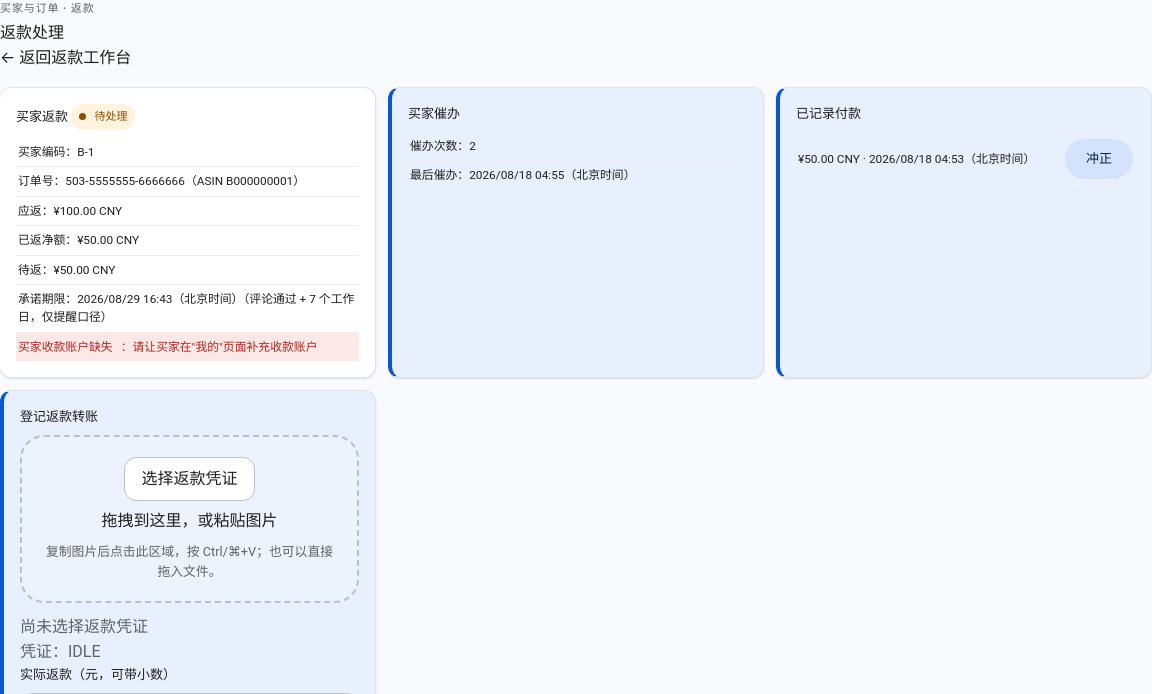
staff refund detail › keeps refund confirmation disabled while a financial request is pending
This screenshot has width=1152, height=694.
Click the button "冲正" at (1099, 159), box [1065,139,1133,179]
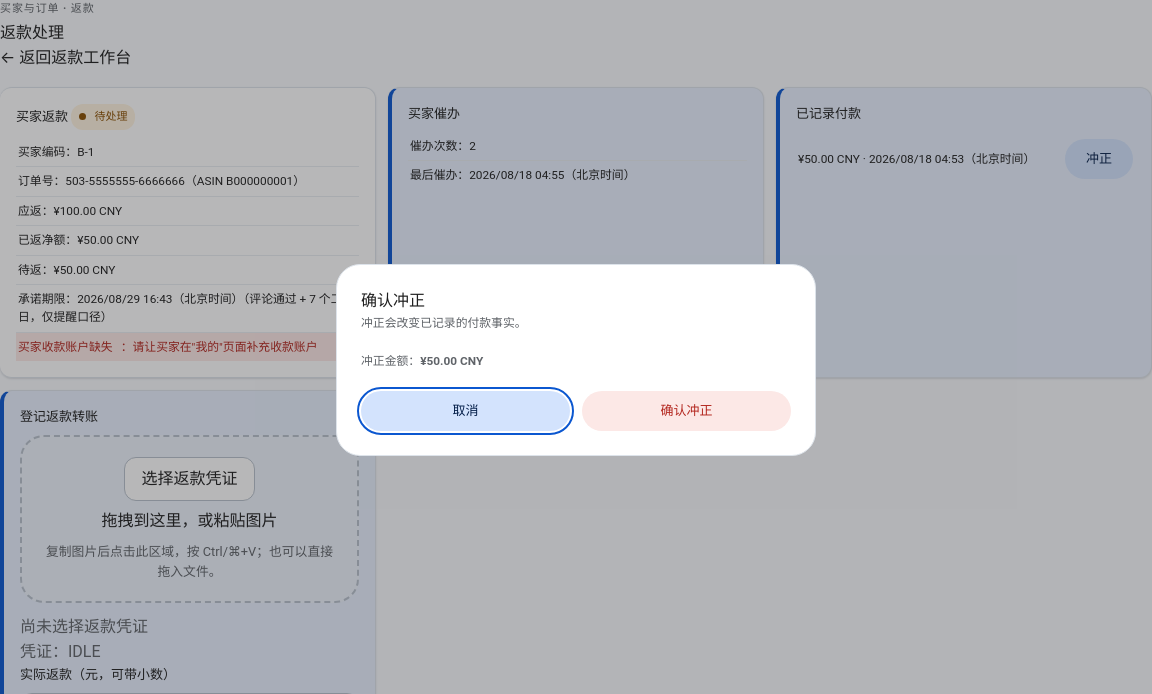
Click the button "确认冲正" at (686, 411), box [582,391,791,431]
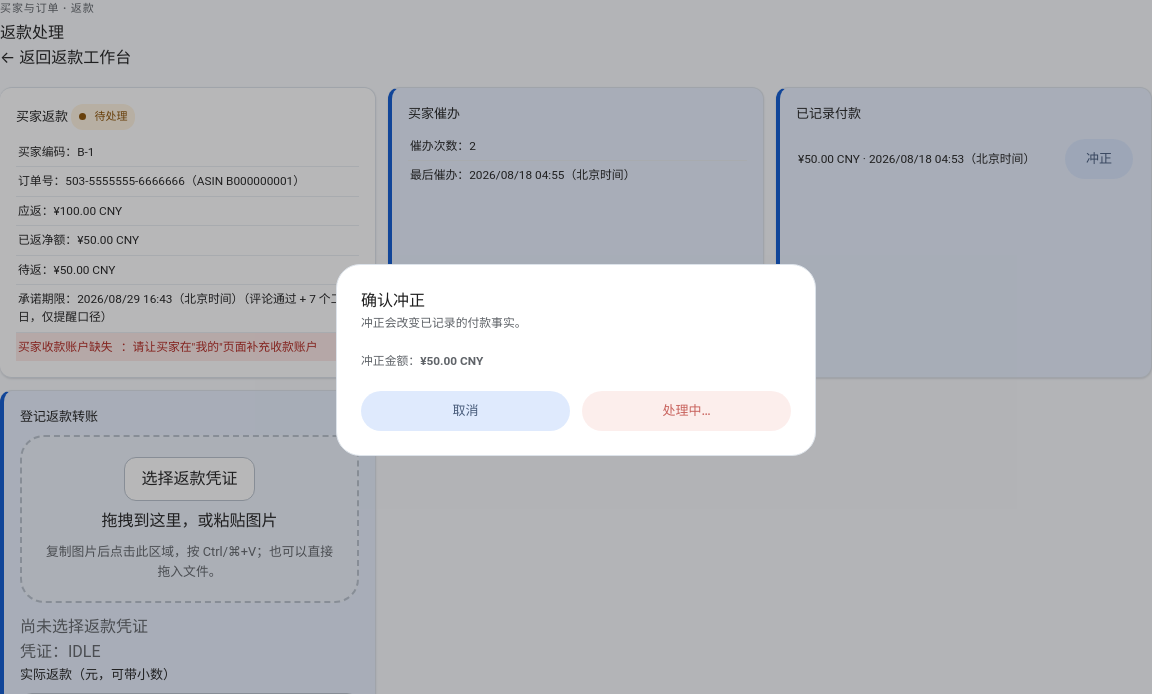
Now the button "处理中…" is disabled
Now the button "取消" is disabled, box [361,391,570,431]
Click the button "处理中…" at (686, 411), box [582,391,791,431]
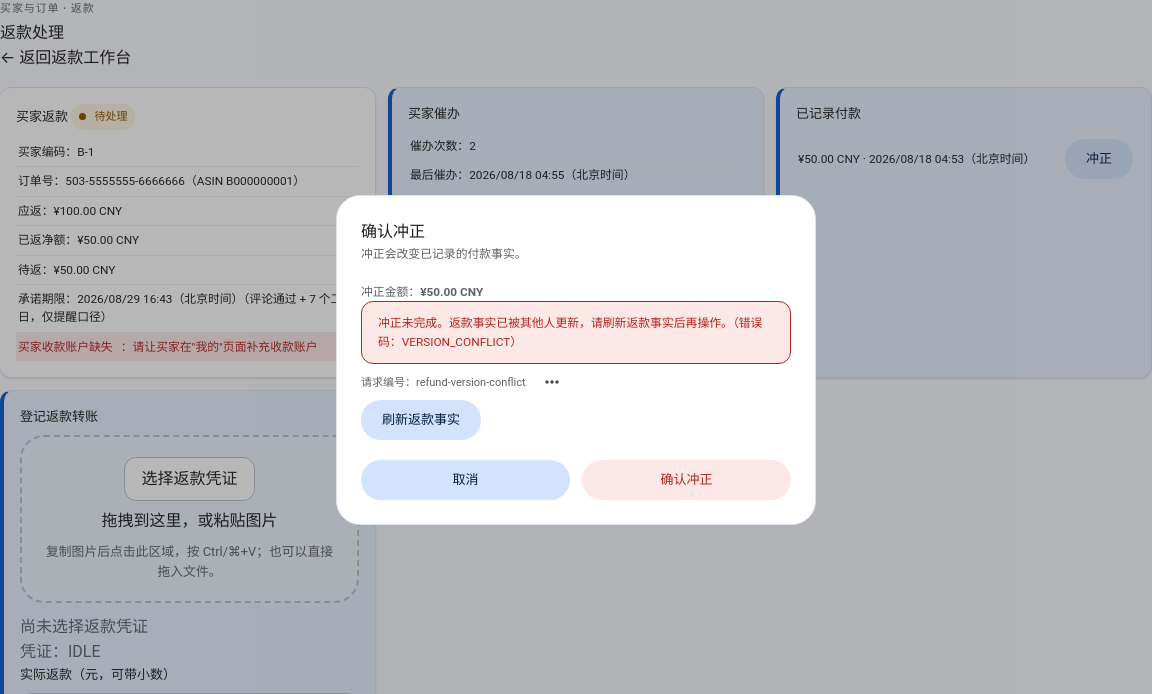
Now the text "冲正未完成。返款事实已被其他人更新，请刷新返款事实后再操作。（错误码：VERSION_CONFLICT）" is shown, box [378,314,774,351]
